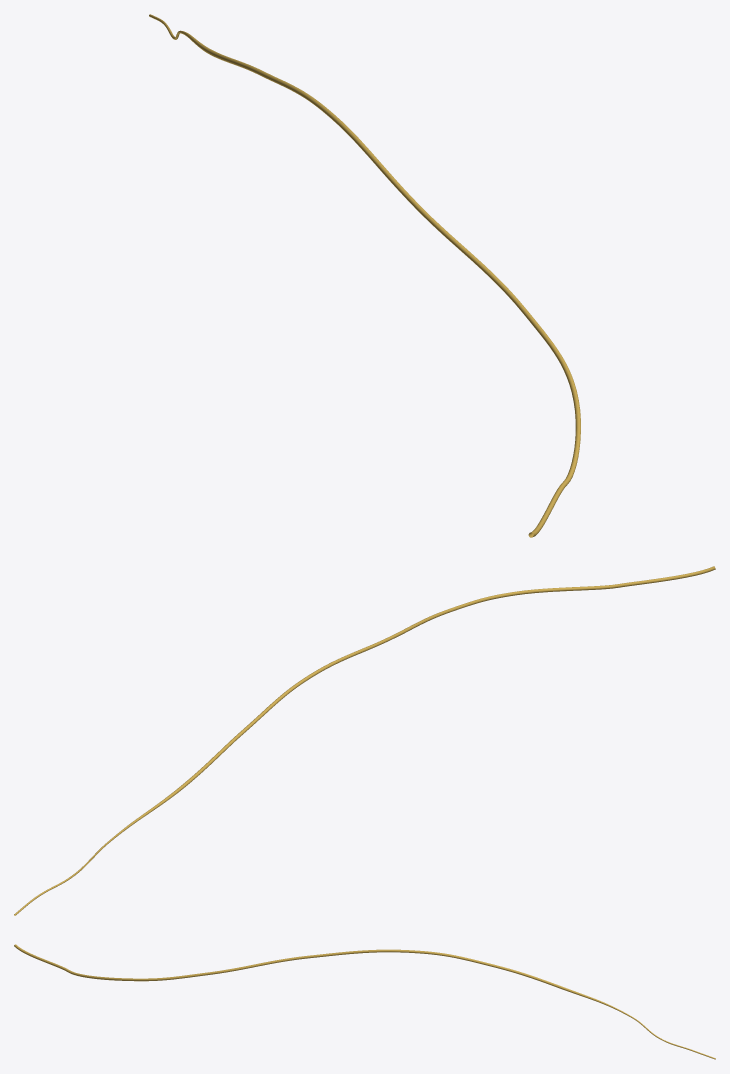
3 renders of one model, top to bottom at view 1: azimuth 30°, elevation 25°; view 2: azimuth 150°, elevation 25°; view 3: azimuth 270°, elevation 25°, orthographic. The views are drawn at different scales.
Parts seen in each view (by area): view 1: 左侧尺神经; view 2: 左侧尺神经; view 3: 左侧尺神经.
Part boxes in pixels (box(x1,y1,x2,y2)): 左侧尺神经: box(149, 14, 580, 537); 左侧尺神经: box(14, 566, 715, 915); 左侧尺神经: box(14, 944, 715, 1059).
Size of the model in its own units: 0.202 by 0.0945 by 0.7616.
